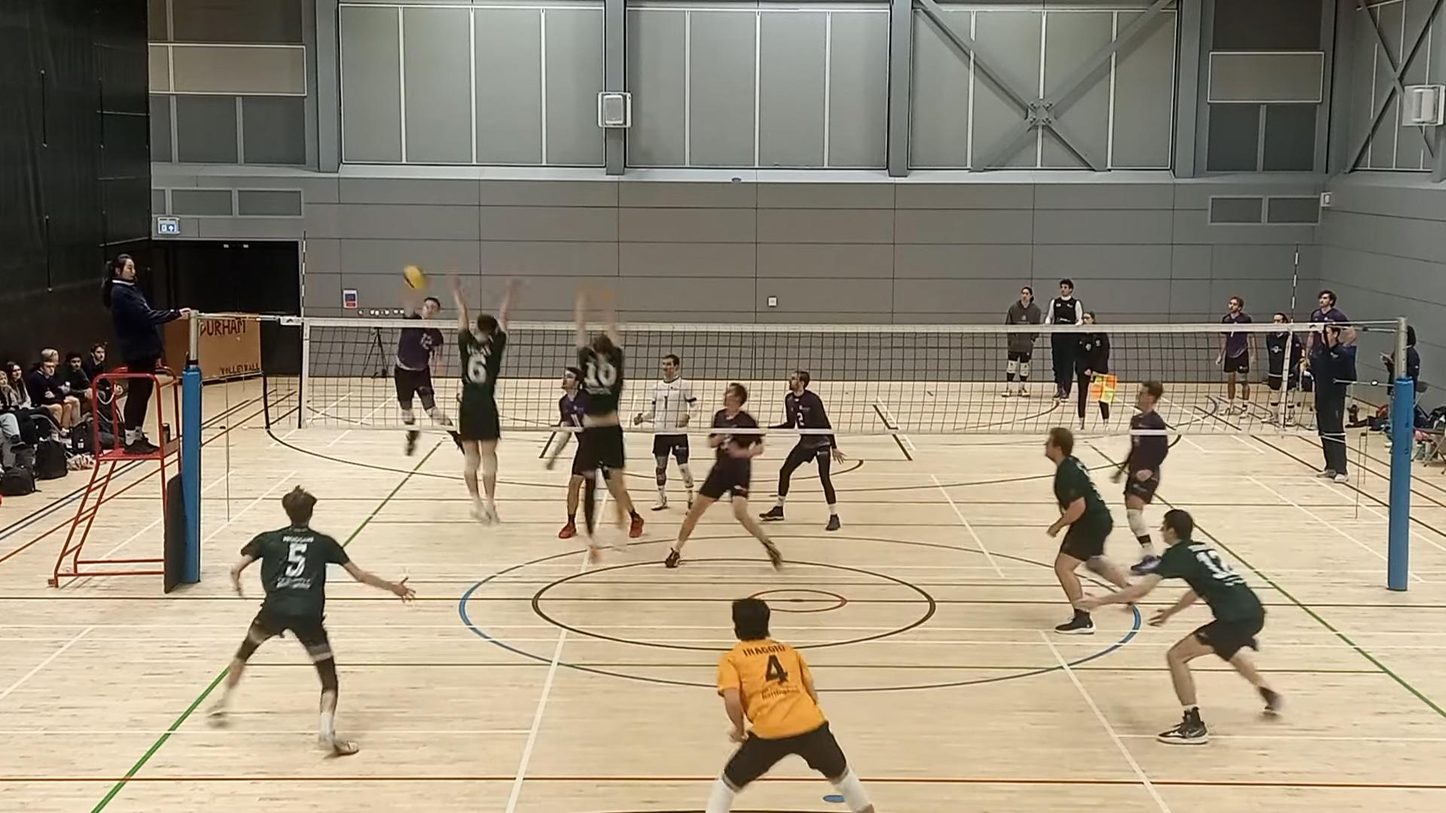Attack: (382, 256, 467, 457)
Block: (553, 280, 647, 537), (445, 269, 525, 524)
Player: (209, 486, 414, 755), (1076, 510, 1282, 744), (705, 598, 874, 812), (664, 382, 782, 568), (1045, 427, 1128, 634), (1112, 380, 1169, 574), (633, 354, 695, 510), (760, 434, 844, 531), (558, 444, 593, 538)
ball: (402, 265, 428, 292)
